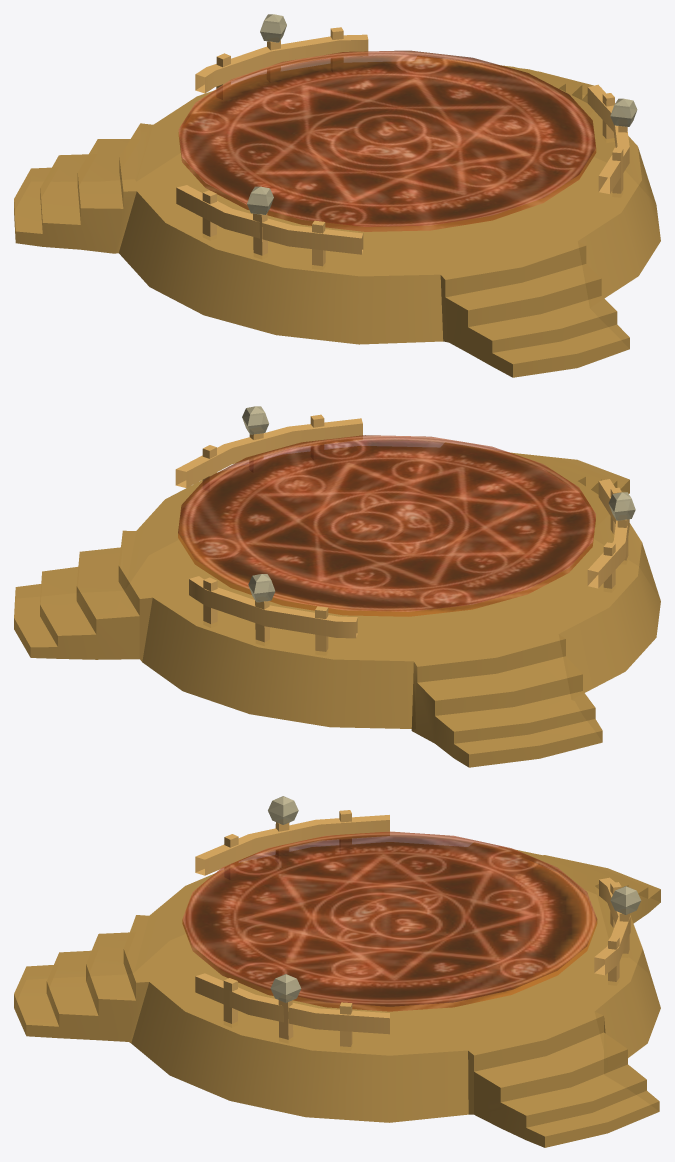
File: fuZhen.fbx
The picture shows the model from 3 angles, top to bottom: view 1: azimuth 30°, elevation 25°; view 2: azimuth 150°, elevation 25°; view 3: azimuth 270°, elevation 25°; orthographic projection.
Parts seen in each view (by area): view 1: pCylinder1, pCylinder2, hengZhaLAN, pSphere2, pSphere1, pSphere3; view 2: pCylinder1, pCylinder2, hengZhaLAN, pSphere3, pSphere2, pSphere1; view 3: pCylinder1, pCylinder2, hengZhaLAN, pSphere3, pSphere2, pSphere1, pCube4.
Part boxes in pixels (x1,y1,x2,y2): pCylinder1: (14,56,660,377); pCylinder2: (178,50,596,231); hengZhaLAN: (176,34,629,254); pSphere2: (247,186,273,214); pSphere1: (610,98,637,126); pSphere3: (260,14,286,42); pCylinder1: (14,442,660,767); pCylinder2: (178,435,595,616); hengZhaLAN: (175,418,629,638); pSphere3: (248,574,275,602); pSphere2: (608,492,635,520); pSphere1: (242,406,268,434); pCylinder1: (14,842,660,1147); pCylinder2: (182,831,597,1011); hengZhaLAN: (195,815,630,1034); pSphere3: (610,886,641,914); pSphere2: (268,796,298,824); pSphere1: (270,974,301,1002); pCube4: (223,978,237,1023).
Bounding box in the file's own units: 5.04 × 1.04 × 4.88.
